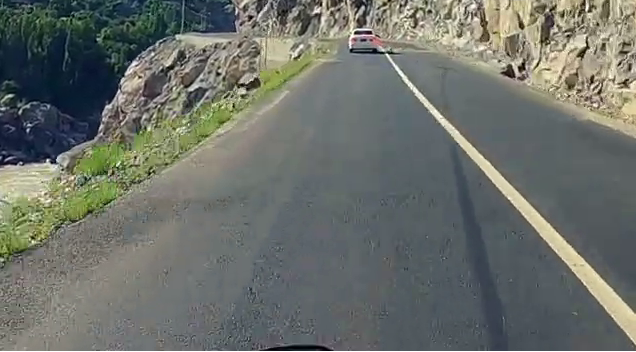left: (335, 71, 617, 288)
